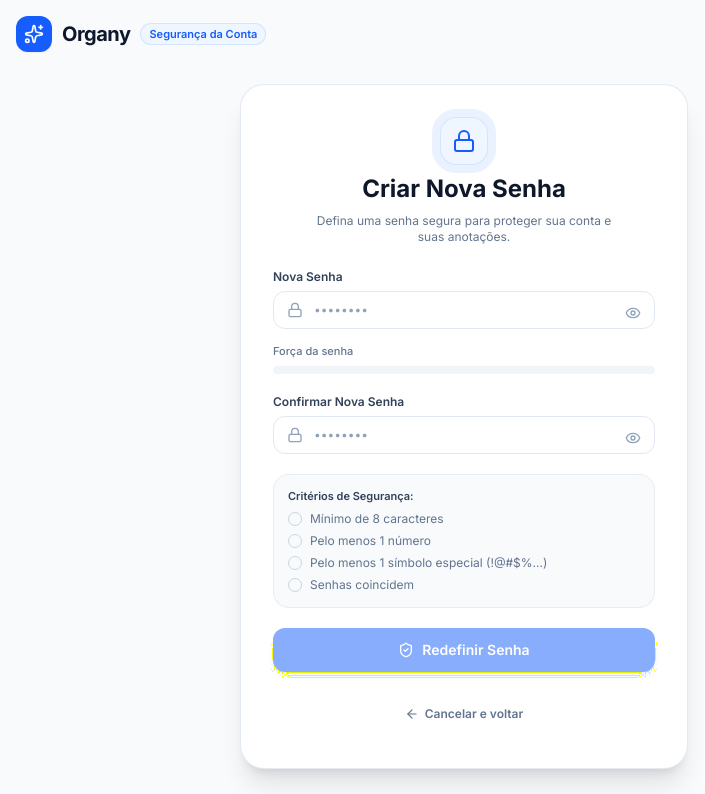
Test: ResetPasswordView Component › Validação de Senha em Tempo Real e Indicador de Força › avalia senha forte (8+ caracteres + número + símbolo) com cor verde e barra em 100%
Digita 8 caracteres com número E símbolo especial
Type "Senha@123" into the password field labelled "Nova Senha" at (464,310), box [273,291,655,329]
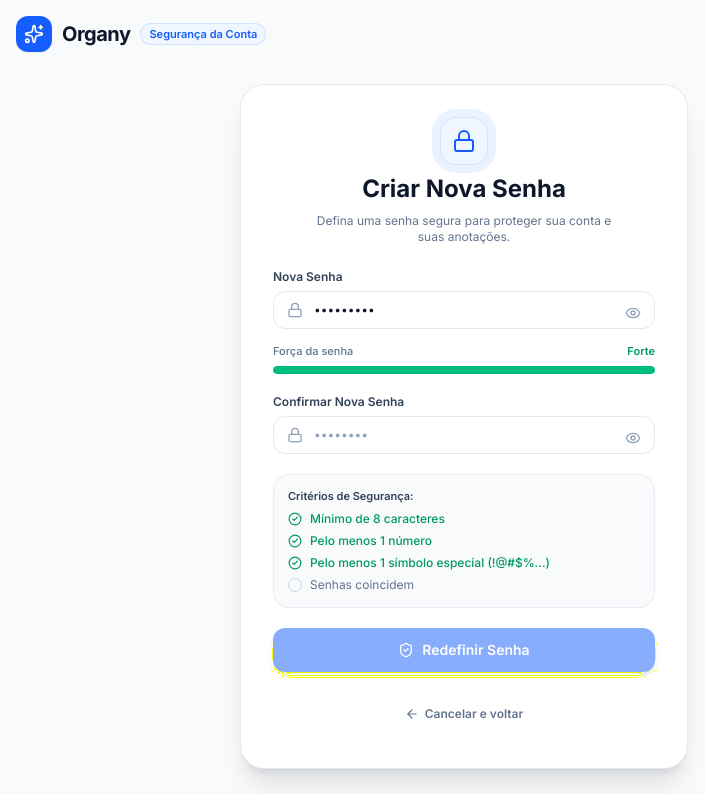
Expected: the text "Forte" is shown, [627,343,655,360]
